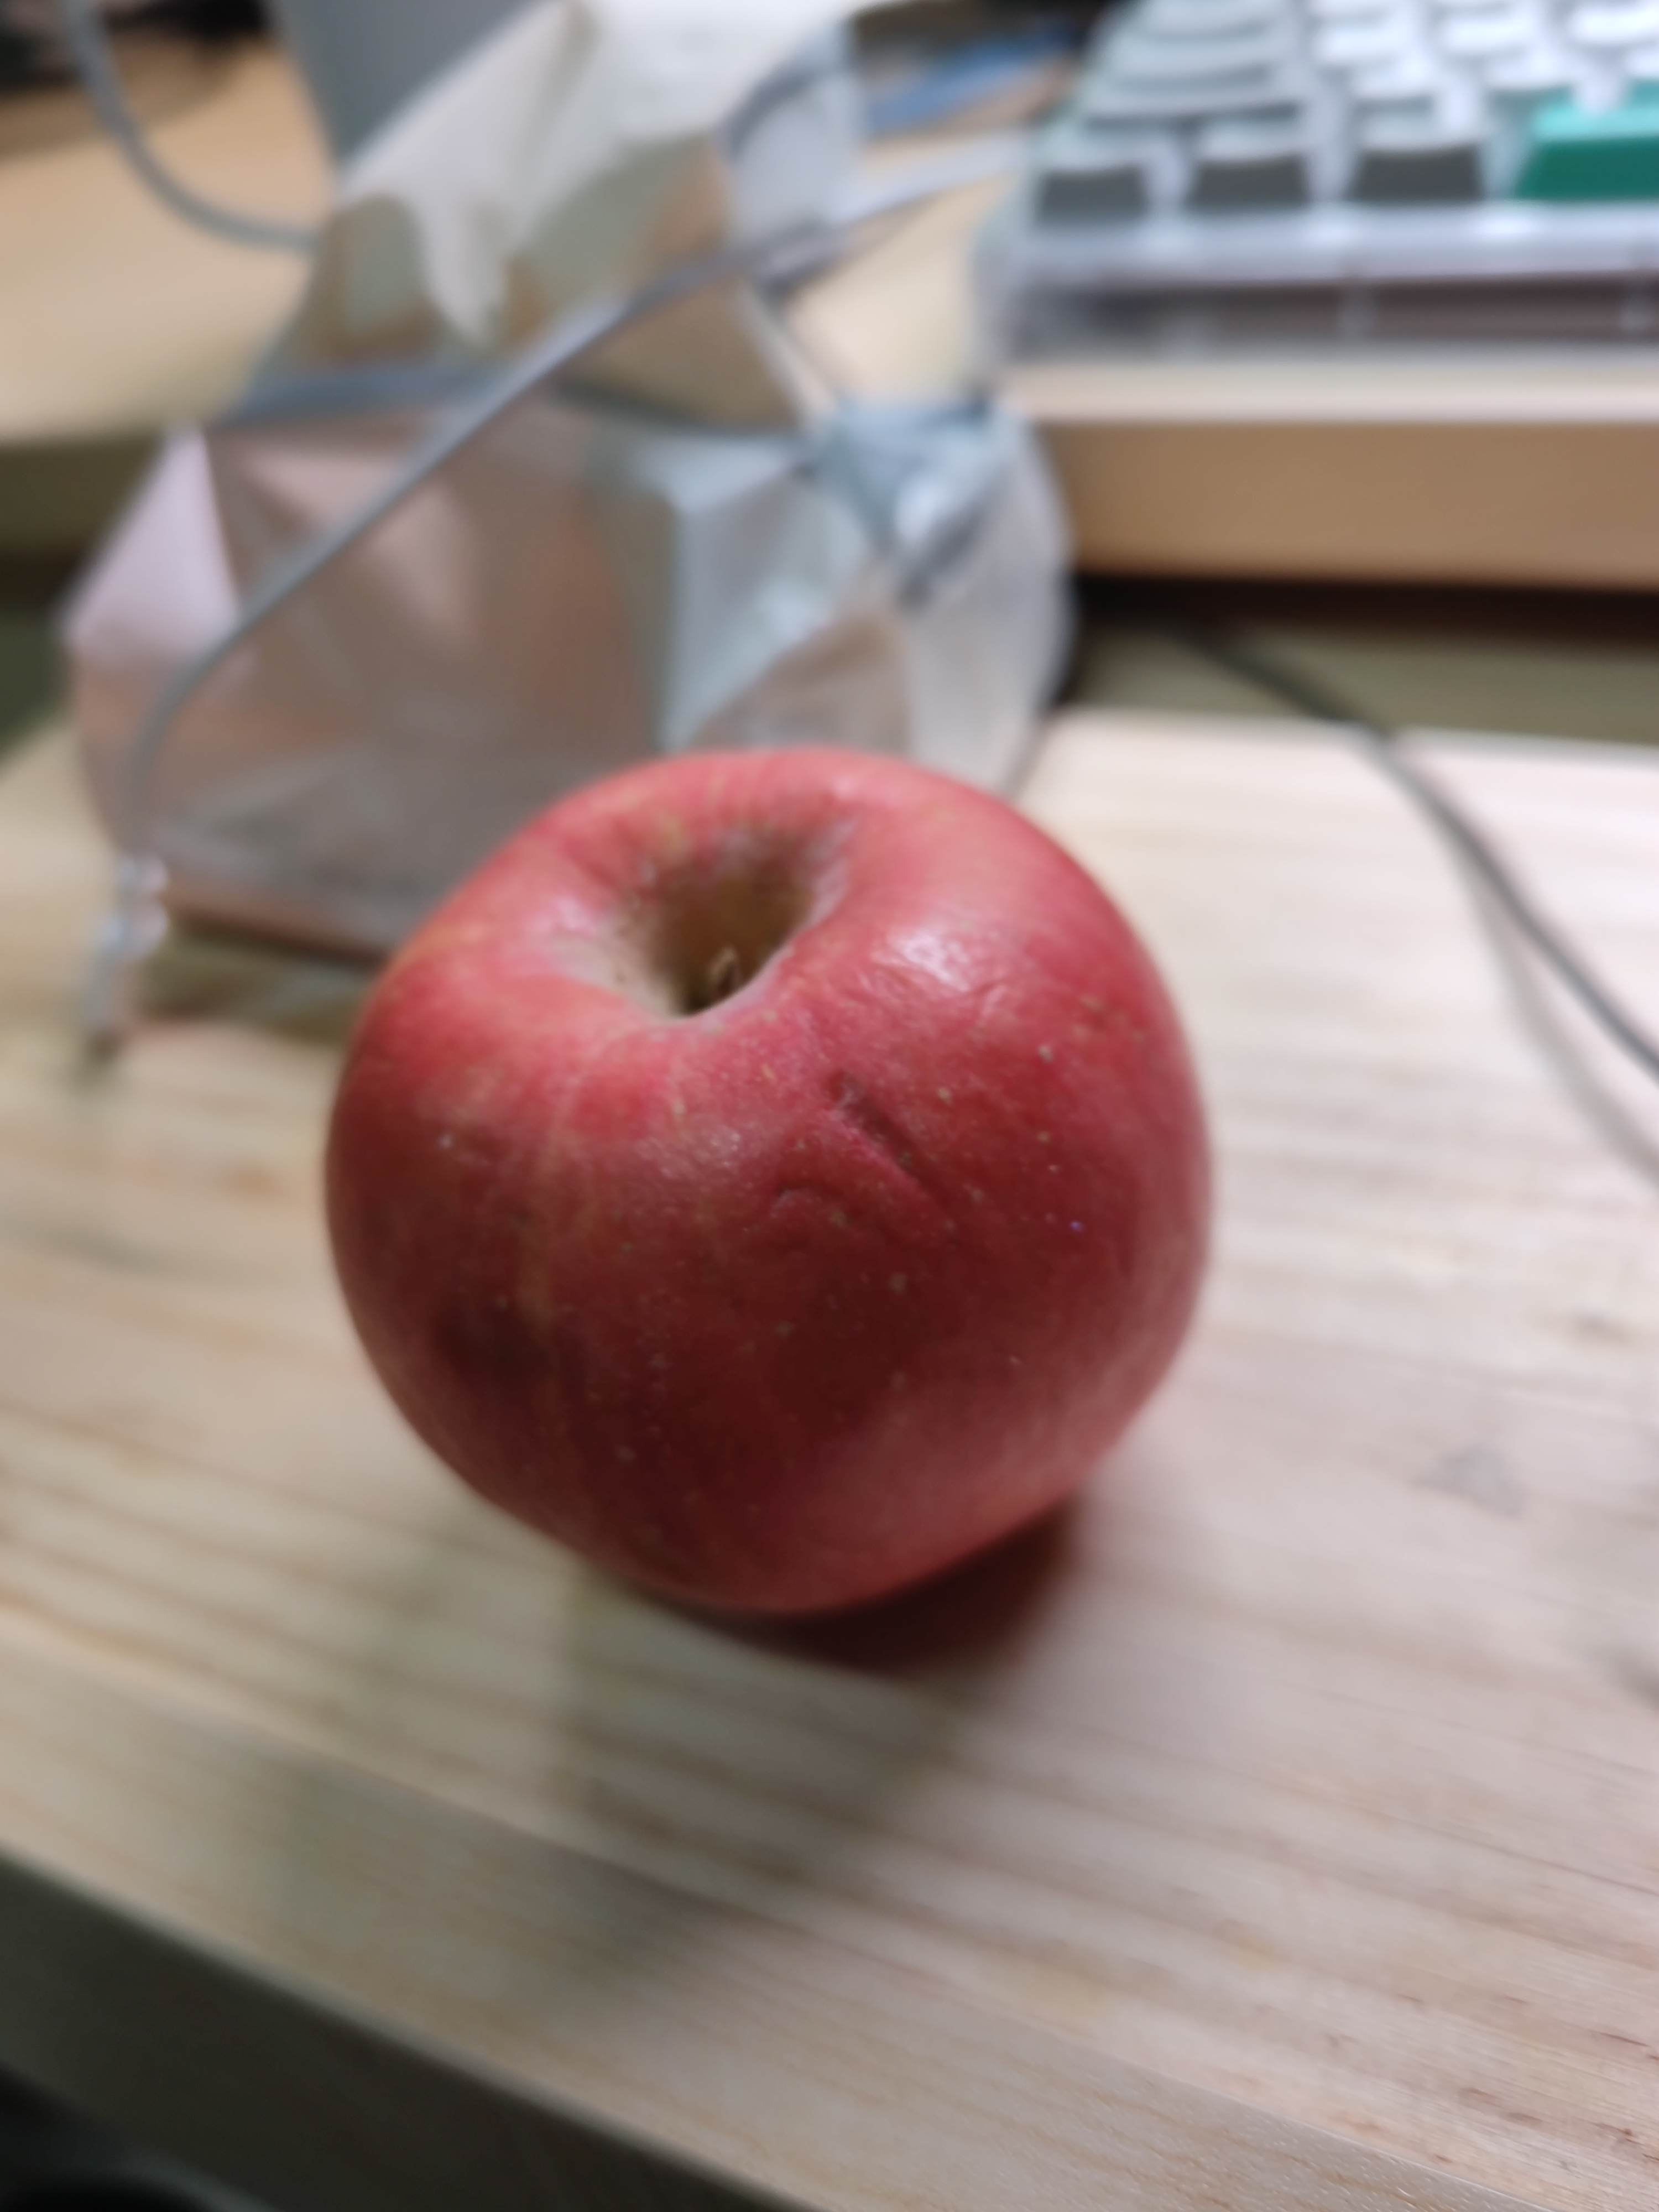apple: (326, 742, 1216, 1620)
